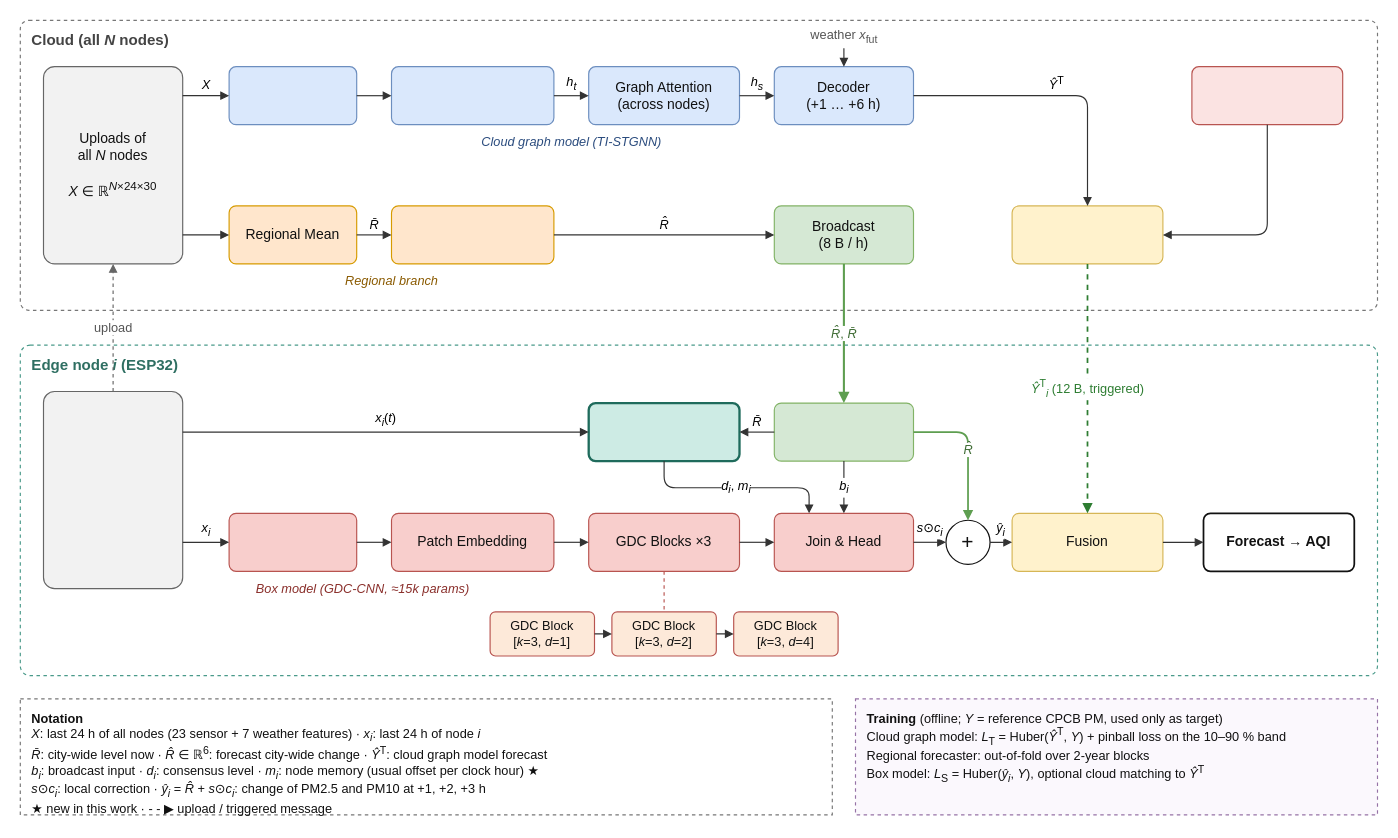
This 1398x838 diagram has some shape labels left out. The shapes that lost their labels are listed below. From the top down, each one's centre as x and y in pixels, then its label:
point 292,95: Embedding
point 472,95: Temporal Encoder (Transformer ×2)
point 1267,95: Box-model twin
point 472,234: Regional Forecaster (LightGBM)
point 1087,234: Send Rule (event trigger)
point 663,431: Node State ★ (consensus, memory)
point 843,431: Broadcast Input
point 112,489: Sensors (PM, CO, gas, weather) x i ∈ ℝ 24×23
point 292,541: Normalization & Patching
